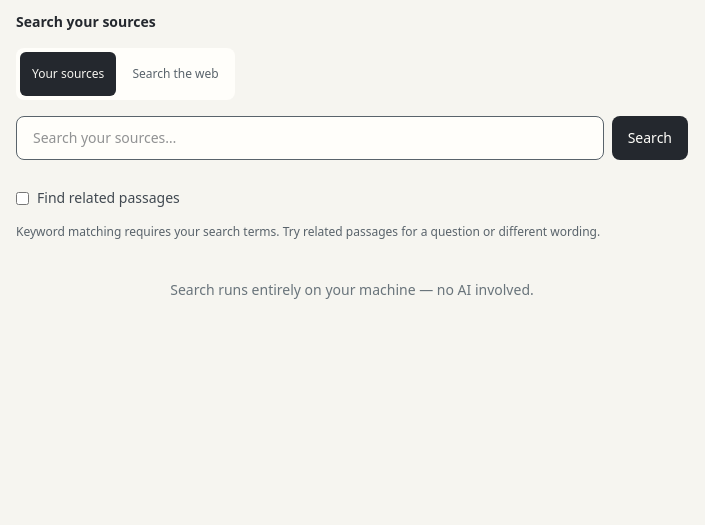
pluralizes the honest passage count
In the search field with placeholder "Search your sources…": x=310, y=138 [16,116,604,160], type "cells"
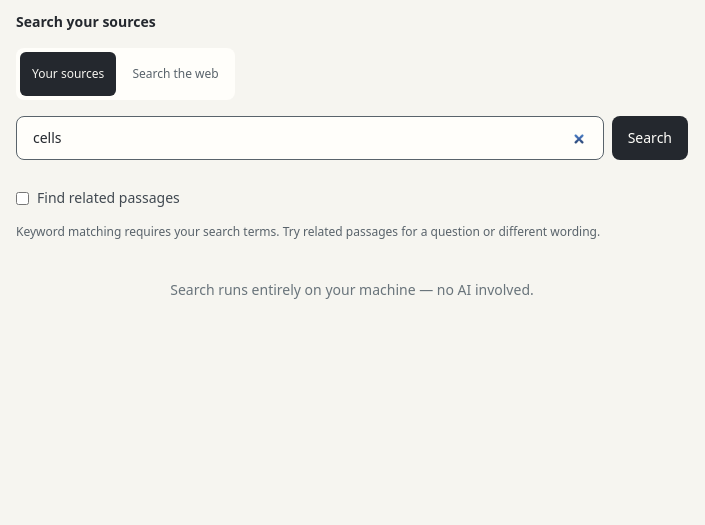
Click the button with aria-label "submit search": x=650, y=138 [612,116,688,160]
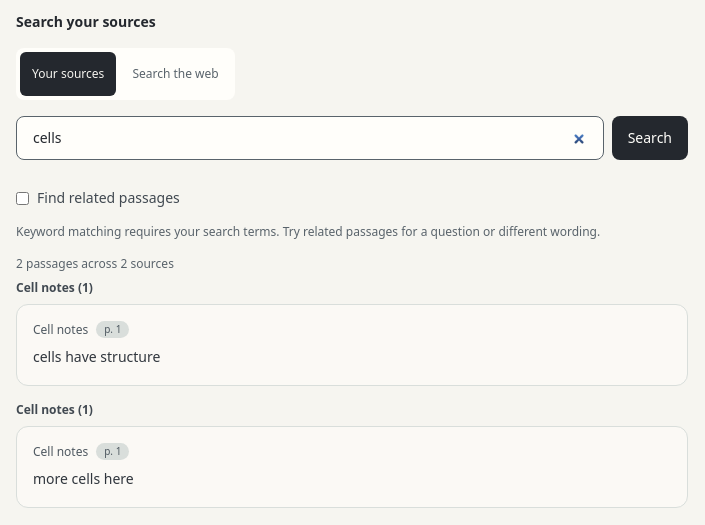
Expected: the text "2 passages across 2 sources" is shown, [16,255,174,272]
